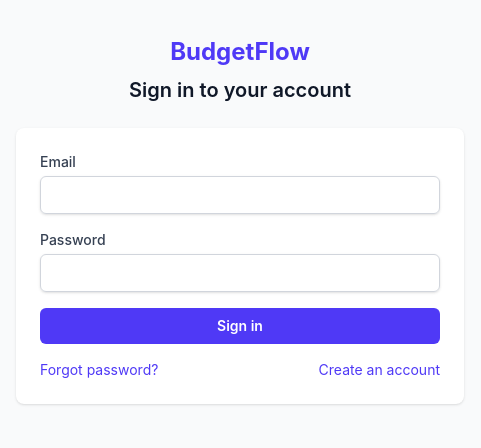
SignInPage › surfaces the server error message on rejected credentials
The image size is (481, 448).
Type "leonid@example.com" into the field labelled "Email" at (240, 195), box [40,176,440,214]
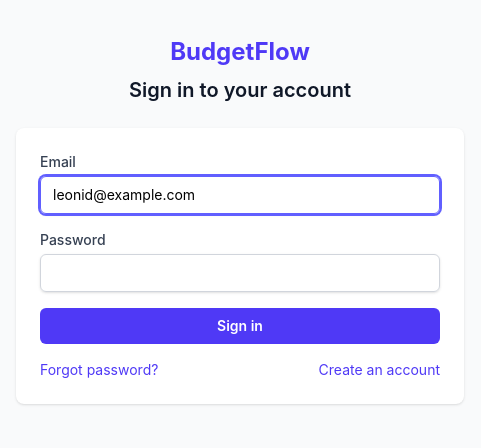
Type "wrong-password" into the password field labelled "Password" at (240, 273), box [40,254,440,292]
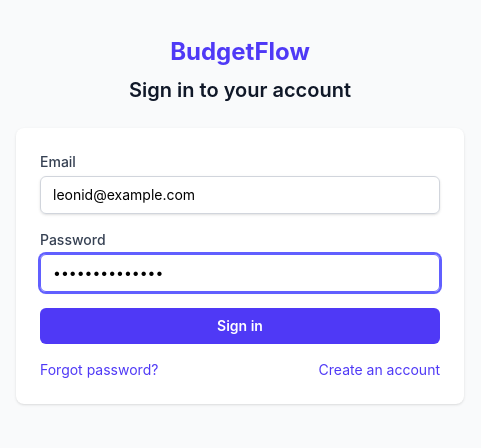
Click the button "Sign in" at (240, 326), box [40,308,440,344]
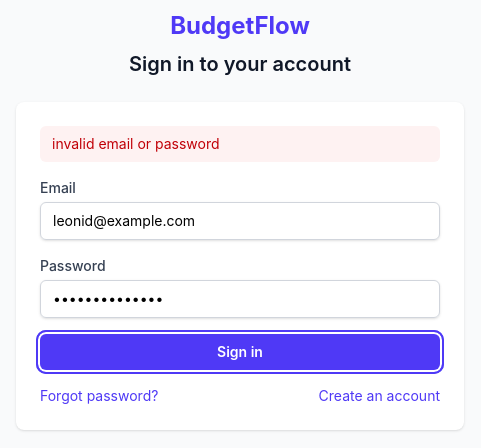
expect the text "invalid email or password" is shown: met, box [40,126,440,162]
